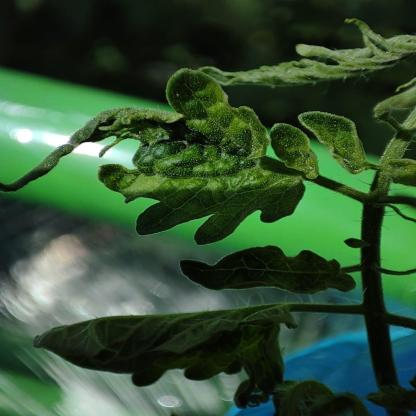T_L_R: (4, 70, 305, 245), (35, 304, 296, 408), (182, 248, 356, 295), (300, 112, 372, 174)
